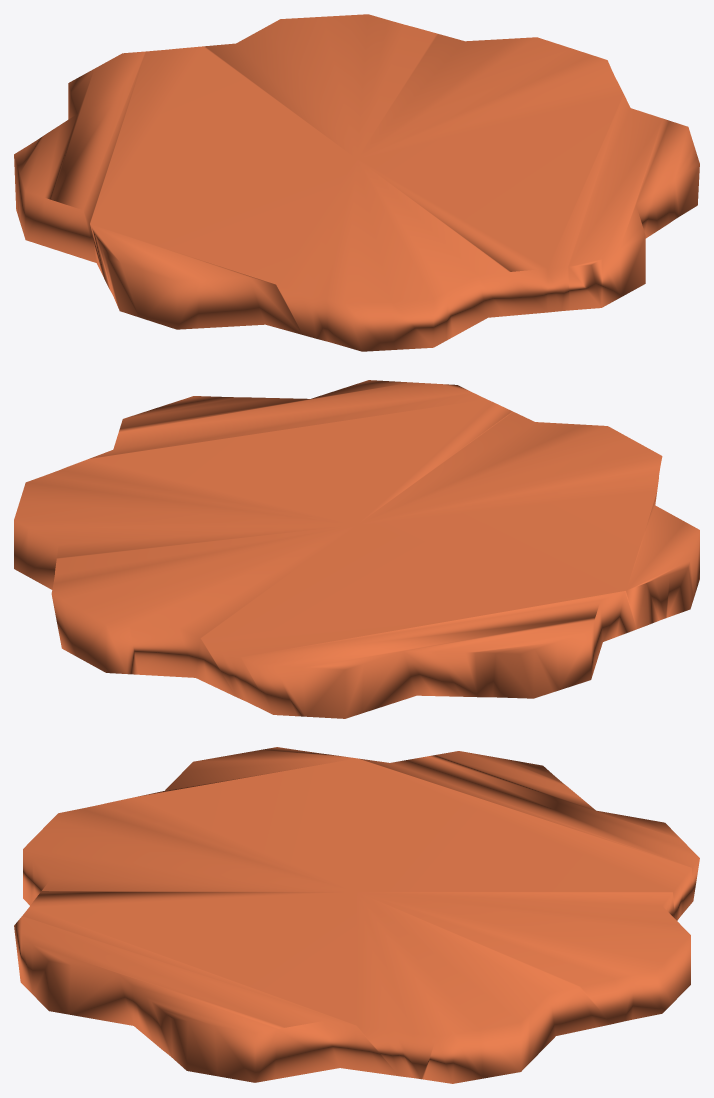
The model's file is Platform-4.fbx.
The picture shows the model from 3 angles, top to bottom: view 1: azimuth 30°, elevation 25°; view 2: azimuth 150°, elevation 25°; view 3: azimuth 270°, elevation 25°; orthographic projection. The views are drawn at different scales.
Visible parts, largest first — view 1: Platform.003; view 2: Platform.003; view 3: Platform.003.
Part boxes in pixels (x1,y1,x2,y2): Platform.003: (14, 14, 699, 351); Platform.003: (14, 380, 699, 718); Platform.003: (14, 747, 699, 1083).
Size of the model in its own units: 1.26 by 0.1011 by 1.26.
